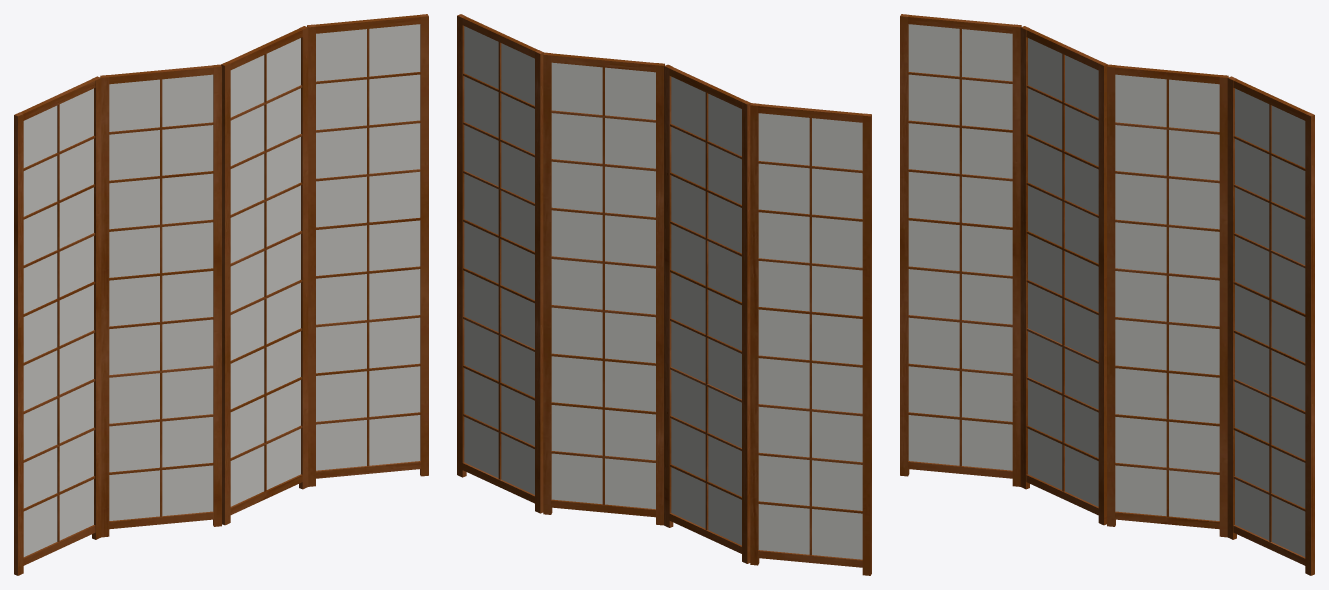
File: sc-japanese-style-screen.glb
The picture shows the model from 3 angles, left to right: view 1: azimuth 30°, elevation 25°; view 2: azimuth 150°, elevation 25°; view 3: azimuth 330°, elevation 25°; orthographic projection.
Visible parts, largest first — view 1: paper.002_Cube.016, paper.001_Cube.013, paper_Cube.003, paper.003_Cube.017, wood.001_Cube.014, wood.002_Cube.015, wood_Cube.001, wood.003_Cube.018; view 2: paper_Cube.003, paper.003_Cube.017, paper.002_Cube.016, paper.001_Cube.013, wood_Cube.001, wood.003_Cube.018, wood.002_Cube.015, wood.001_Cube.014; view 3: paper.003_Cube.017, paper_Cube.003, paper.002_Cube.016, paper.001_Cube.013, wood_Cube.001, wood.003_Cube.018, wood.002_Cube.015, wood.001_Cube.014.
Boxes of the visible parts, box(x1,y1,x2,y2) form: paper.002_Cube.016: box(316, 24, 420, 470); paper.001_Cube.013: box(109, 74, 213, 520); paper_Cube.003: box(23, 88, 93, 556); paper.003_Cube.017: box(230, 38, 300, 506); wood.001_Cube.014: box(100, 64, 221, 537); wood.002_Cube.015: box(307, 14, 428, 486); wood_Cube.001: box(14, 76, 101, 575); wood.003_Cube.018: box(221, 26, 308, 525); paper_Cube.003: box(758, 113, 862, 559); paper.003_Cube.017: box(551, 62, 655, 509); paper.002_Cube.016: box(464, 26, 534, 494); paper.001_Cube.013: box(671, 76, 741, 545); wood_Cube.001: box(750, 103, 871, 575); wood.003_Cube.018: box(543, 52, 664, 525); wood.002_Cube.015: box(457, 14, 544, 513); wood.001_Cube.014: box(664, 64, 750, 563); paper.003_Cube.017: box(1115, 74, 1219, 520); paper_Cube.003: box(908, 24, 1012, 470); paper.002_Cube.016: box(1235, 88, 1305, 556); paper.001_Cube.013: box(1028, 38, 1098, 506); wood_Cube.001: box(900, 14, 1021, 486); wood.003_Cube.018: box(1107, 64, 1228, 537); wood.002_Cube.015: box(1227, 76, 1314, 575); wood.001_Cube.014: box(1020, 26, 1107, 525).
Size of the model in its own units: 1.78 by 1.89 by 0.1583.
Materials: 2 (1 with a texture image).
